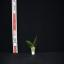leaf: (33, 36, 37, 46), (25, 41, 33, 45), (27, 42, 33, 46), (33, 40, 37, 46), (34, 44, 37, 47), (28, 46, 33, 47)
